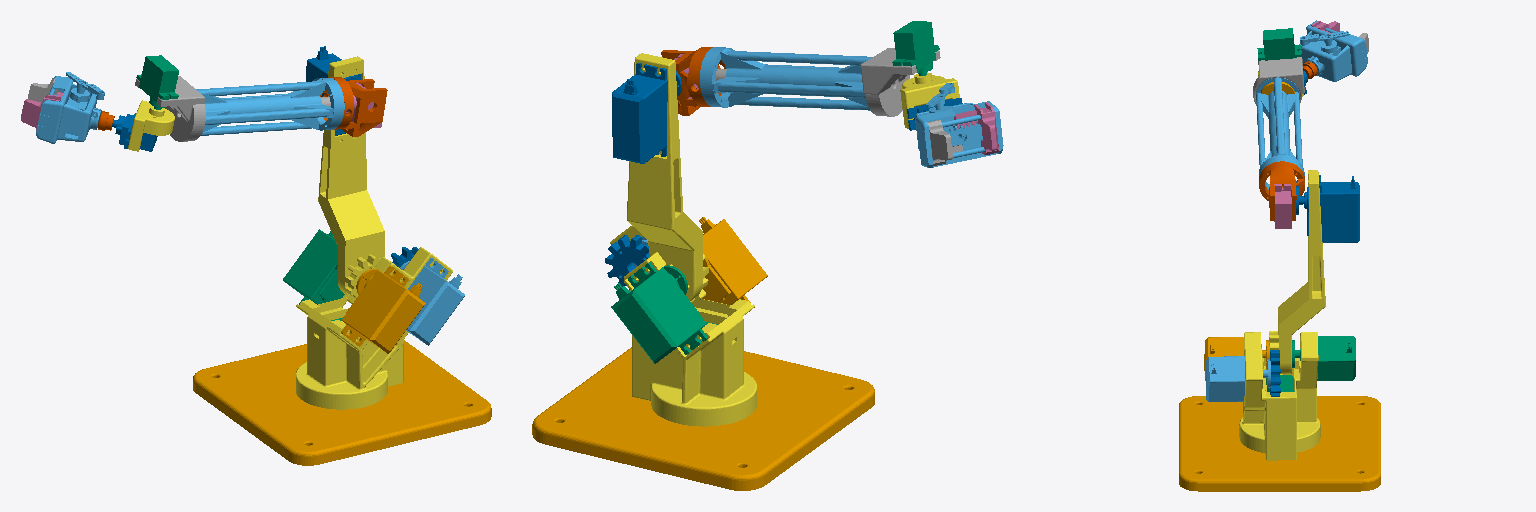
robot.urdf — Fenrir:
<?xml version="1.0" ?>
<robot name="Fenrir">

<material name="silver">
  <color rgba="0.700 0.700 0.700 1.000"/>
</material>

<material name="black">
  <color rgba="0.000 0.000 0.000 1.000"/>
</material>

<link name="base_link">
  <inertial>
    <origin xyz="1.8190649168632872e-07 1.8190679612567247e-07 0.0045562324440714536" rpy="0 0 0"/>
    <mass value="1.5757592042176625"/>
    <inertia ixx="0.0028840369465450914" iyy="0.0028840369383374012" izz="0.005745539384307364" ixy="9.260470810583044e-07" iyz="-1.4658118675883586e-09" ixz="-1.465811894234149e-09"/>
  </inertial>
  <visual>
    <origin xyz="0 0 0" rpy="0 0 0"/>
    <geometry>
      <mesh filename="meshes/base_link.stl" scale="0.001 0.001 0.001"/>
    </geometry>
    <material name="silver"/>
    <material/>
  </visual>
  <collision>
    <origin xyz="0 0 0" rpy="0 0 0"/>
    <geometry>
      <mesh filename="meshes/base_link.stl" scale="0.001 0.001 0.001"/>
    </geometry>
  </collision>
</link>

<link name="gripper_body1">
  <inertial>
    <origin xyz="-0.010645259405224872 0.009029599162296748 0.0024152740401068573" rpy="0 0 0"/>
    <mass value="0.1730775059148414"/>
    <inertia ixx="3.0952742939698366e-05" iyy="2.8184952640007352e-05" izz="3.798701059695188e-05" ixy="-5.722402575421889e-06" iyz="1.520879396750812e-07" ixz="8.540673073365729e-08"/>
  </inertial>
  <visual>
    <origin xyz="0.172117 -0.026452 -0.233218" rpy="0 0 0"/>
    <geometry>
      <mesh filename="meshes/gripper_body1.stl" scale="0.001 0.001 0.001"/>
    </geometry>
    <material name="silver"/>
    <material/>
  </visual>
  <collision>
    <origin xyz="0.172117 -0.026452 -0.233218" rpy="0 0 0"/>
    <geometry>
      <mesh filename="meshes/gripper_body1.stl" scale="0.001 0.001 0.001"/>
    </geometry>
  </collision>
</link>

<link name="base_servo1">
  <inertial>
    <origin xyz="0.0097678905552902 0.0002846156436969003 0.02703485977305558" rpy="0 0 0"/>
    <mass value="0.2658066538477731"/>
    <inertia ixx="4.5905044265848855e-05" iyy="7.512321155176858e-05" izz="4.722744669481479e-05" ixy="-8.523369753271079e-07" iyz="-6.383583737549818e-08" ixz="-2.1901944549831395e-06"/>
  </inertial>
  <visual>
    <origin xyz="-9e-06 -9e-06 -0.009" rpy="0 0 0"/>
    <geometry>
      <mesh filename="meshes/base_servo1.stl" scale="0.001 0.001 0.001"/>
    </geometry>
    <material name="black"/>
    <material/>
  </visual>
  <collision>
    <origin xyz="-9e-06 -9e-06 -0.009" rpy="0 0 0"/>
    <geometry>
      <mesh filename="meshes/base_servo1.stl" scale="0.001 0.001 0.001"/>
    </geometry>
  </collision>
</link>

<link name="joint_one_body1">
  <inertial>
    <origin xyz="-0.024112282115374504 -0.003944846866341298 0.016508707805715464" rpy="0 0 0"/>
    <mass value="0.4688746120587956"/>
    <inertia ixx="0.0004237074569255258" iyy="0.0005355095348674533" izz="0.0003496436022890586" ixy="2.942878437548079e-05" iyz="2.4060169979392124e-05" ixz="-0.00012660104149275528"/>
  </inertial>
  <visual>
    <origin xyz="-0.034144 -0.001004 -0.0276" rpy="0 0 0"/>
    <geometry>
      <mesh filename="meshes/joint_one_body1.stl" scale="0.001 0.001 0.001"/>
    </geometry>
    <material name="silver"/>
    <material/>
  </visual>
  <collision>
    <origin xyz="-0.034144 -0.001004 -0.0276" rpy="0 0 0"/>
    <geometry>
      <mesh filename="meshes/joint_one_body1.stl" scale="0.001 0.001 0.001"/>
    </geometry>
  </collision>
</link>

<link name="mg996r1">
  <inertial>
    <origin xyz="-0.2111493199609745 0.012567454176192209 0.15185235386394982" rpy="0 0 0"/>
    <mass value="0.26593150454126685"/>
    <inertia ixx="7.523268930311605e-05" iyy="4.7341036934871183e-05" izz="4.591481466780851e-05" ixy="8.444774472724263e-07" iyz="2.1278380190007523e-06" ixz="-4.84216701204538e-07"/>
  </inertial>
  <visual>
    <origin xyz="-0.22786 -0.026349 -0.049196" rpy="0 0 0"/>
    <geometry>
      <mesh filename="meshes/mg996r1.stl" scale="0.001 0.001 0.001"/>
    </geometry>
    <material name="black"/>
    <material/>
  </visual>
  <collision>
    <origin xyz="-0.22786 -0.026349 -0.049196" rpy="0 0 0"/>
    <geometry>
      <mesh filename="meshes/mg996r1.stl" scale="0.001 0.001 0.001"/>
    </geometry>
  </collision>
</link>

<link name="joint_three_coupler1">
  <inertial>
    <origin xyz="-0.010614246356101982 -0.009457828931357902 0.0005826002819208365" rpy="0 0 0"/>
    <mass value="0.06374463084478621"/>
    <inertia ixx="1.1713640618163986e-05" iyy="1.3886937257446413e-05" izz="1.1346327594984003e-05" ixy="1.8266003750137336e-07" iyz="-3.2774990548680035e-08" ixz="5.887013061454417e-07"/>
  </inertial>
  <visual>
    <origin xyz="-0.017639 -0.01189 -0.210807" rpy="0 0 0"/>
    <geometry>
      <mesh filename="meshes/joint_three_coupler1.stl" scale="0.001 0.001 0.001"/>
    </geometry>
    <material name="silver"/>
    <material/>
  </visual>
  <collision>
    <origin xyz="-0.017639 -0.01189 -0.210807" rpy="0 0 0"/>
    <geometry>
      <mesh filename="meshes/joint_three_coupler1.stl" scale="0.001 0.001 0.001"/>
    </geometry>
  </collision>
</link>

<link name="j3_servo1">
  <inertial>
    <origin xyz="0.003061638809864353 9.798100018048933e-05 -0.014154611962817365" rpy="0 0 0"/>
    <mass value="0.05589810594169982"/>
    <inertia ixx="3.4579518902173693e-06" iyy="5.541775338202028e-06" izz="3.4843675473639287e-06" ixy="-6.074741724346317e-08" iyz="1.0311702493726212e-08" ixz="3.1124349905760503e-07"/>
  </inertial>
  <visual>
    <origin xyz="-0.013774 -0.002073 -0.220185" rpy="0 0 0"/>
    <geometry>
      <mesh filename="meshes/j3_servo1.stl" scale="0.001 0.001 0.001"/>
    </geometry>
    <material name="black"/>
    <material/>
  </visual>
  <collision>
    <origin xyz="-0.013774 -0.002073 -0.220185" rpy="0 0 0"/>
    <geometry>
      <mesh filename="meshes/j3_servo1.stl" scale="0.001 0.001 0.001"/>
    </geometry>
  </collision>
</link>

<link name="joint_four_body1">
  <inertial>
    <origin xyz="-0.09352419136777934 -0.001158439148199707 0.021612970408451032" rpy="0 0 0"/>
    <mass value="0.1368251168908434"/>
    <inertia ixx="3.2646441726158146e-05" iyy="0.0002509492220017801" izz="0.00023559240316903566" ixy="-3.7287203473645475e-08" iyz="-1.3088239401923105e-06" ixz="6.189398076866543e-05"/>
  </inertial>
  <visual>
    <origin xyz="-0.000572 -0.001694 -0.213731" rpy="0 0 0"/>
    <geometry>
      <mesh filename="meshes/joint_four_body1.stl" scale="0.001 0.001 0.001"/>
    </geometry>
    <material name="silver"/>
    <material/>
  </visual>
  <collision>
    <origin xyz="-0.000572 -0.001694 -0.213731" rpy="0 0 0"/>
    <geometry>
      <mesh filename="meshes/joint_four_body1.stl" scale="0.001 0.001 0.001"/>
    </geometry>
  </collision>
</link>

<link name="joint_four_bearing1">
  <inertial>
    <origin xyz="0.003934463042572445 0.00011425317887628003 -0.0007111926335709451" rpy="0 0 0"/>
    <mass value="0.02841005068494341"/>
    <inertia ixx="2.7160016020009135e-06" iyy="1.530415771607268e-06" izz="1.5681730078755183e-06" ixy="3.4585257333985774e-08" iyz="-6.251171752211267e-09" ixz="-2.144729253423421e-07"/>
  </inertial>
  <visual>
    <origin xyz="0.120417 0.001832 -0.235599" rpy="0 0 0"/>
    <geometry>
      <mesh filename="meshes/joint_four_bearing1.stl" scale="0.001 0.001 0.001"/>
    </geometry>
    <material name="silver"/>
    <material/>
  </visual>
  <collision>
    <origin xyz="0.120417 0.001832 -0.235599" rpy="0 0 0"/>
    <geometry>
      <mesh filename="meshes/joint_four_bearing1.stl" scale="0.001 0.001 0.001"/>
    </geometry>
  </collision>
</link>

<link name="joint_three_body1">
  <inertial>
    <origin xyz="-0.05737050355308056 -0.012318507158123375 -0.00038901874202051934" rpy="0 0 0"/>
    <mass value="0.18727346151205548"/>
    <inertia ixx="3.6504454341300396e-05" iyy="0.0002750398653144897" izz="0.0002674432528822632" ixy="-6.958423750132665e-06" iyz="1.2577121274540057e-06" ixz="4.315114639589579e-05"/>
  </inertial>
  <visual>
    <origin xyz="0.006468 -0.012112 -0.225956" rpy="0 0 0"/>
    <geometry>
      <mesh filename="meshes/joint_three_body1.stl" scale="0.001 0.001 0.001"/>
    </geometry>
    <material name="silver"/>
    <material/>
  </visual>
  <collision>
    <origin xyz="0.006468 -0.012112 -0.225956" rpy="0 0 0"/>
    <geometry>
      <mesh filename="meshes/joint_three_body1.stl" scale="0.001 0.001 0.001"/>
    </geometry>
  </collision>
</link>

<link name="j4_servo1">
  <inertial>
    <origin xyz="0.00075522203071271 0.0128991137827376 0.006569643342771547" rpy="0 0 0"/>
    <mass value="0.05589810594169982"/>
    <inertia ixx="5.474011958723612e-06" iyy="3.637887736480591e-06" izz="3.3721950795510044e-06" ixy="1.4628608730554322e-08" iyz="-2.70888737279456e-07" ixz="-3.8271229013632155e-07"/>
  </inertial>
  <visual>
    <origin xyz="0.138488 0.013785 -0.256307" rpy="0 0 0"/>
    <geometry>
      <mesh filename="meshes/j4_servo1.stl" scale="0.001 0.001 0.001"/>
    </geometry>
    <material name="black"/>
    <material/>
  </visual>
  <collision>
    <origin xyz="0.138488 0.013785 -0.256307" rpy="0 0 0"/>
    <geometry>
      <mesh filename="meshes/j4_servo1.stl" scale="0.001 0.001 0.001"/>
    </geometry>
  </collision>
</link>

<link name="joint_five_body1">
  <inertial>
    <origin xyz="-0.0037990185356478468 0.00241574058774893 -0.009230996728596258" rpy="0 0 0"/>
    <mass value="0.056987335128196565"/>
    <inertia ixx="4.931682390759903e-06" iyy="4.603413424249421e-06" izz="6.991233656208559e-06" ixy="-7.708382314583344e-07" iyz="2.9126730827564026e-07" ixz="-1.1763057786227764e-07"/>
  </inertial>
  <visual>
    <origin xyz="0.140768 0.00419 -0.245444" rpy="0 0 0"/>
    <geometry>
      <mesh filename="meshes/joint_five_body1.stl" scale="0.001 0.001 0.001"/>
    </geometry>
    <material name="silver"/>
    <material/>
  </visual>
  <collision>
    <origin xyz="0.140768 0.00419 -0.245444" rpy="0 0 0"/>
    <geometry>
      <mesh filename="meshes/joint_five_body1.stl" scale="0.001 0.001 0.001"/>
    </geometry>
  </collision>
</link>

<link name="j5_servo1">
  <inertial>
    <origin xyz="-0.005936655700682053 -0.012397988556483218 6.045801700724218e-05" rpy="0 0 0"/>
    <mass value="0.055898105941701935"/>
    <inertia ixx="3.784171161547341e-06" iyy="3.2342555759097905e-06" izz="5.4656680363964535e-06" ixy="1.4795921569283745e-07" iyz="-2.1623132705267314e-07" ixz="3.3141902010215205e-07"/>
  </inertial>
  <visual>
    <origin xyz="0.145315 -0.015901 -0.227489" rpy="0 0 0"/>
    <geometry>
      <mesh filename="meshes/j5_servo1.stl" scale="0.001 0.001 0.001"/>
    </geometry>
    <material name="black"/>
    <material/>
  </visual>
  <collision>
    <origin xyz="0.145315 -0.015901 -0.227489" rpy="0 0 0"/>
    <geometry>
      <mesh filename="meshes/j5_servo1.stl" scale="0.001 0.001 0.001"/>
    </geometry>
  </collision>
</link>

<link name="gripper_coupler1">
  <inertial>
    <origin xyz="-0.003903644749747359 0.0031660160145538588 0.0009682080944643512" rpy="0 0 0"/>
    <mass value="0.006853643385999504"/>
    <inertia ixx="1.1992800902198026e-07" iyy="1.2082185299792068e-07" izz="1.2622133425404408e-07" ixy="2.2808233400468416e-09" iyz="-8.951735670542811e-10" ixz="1.378174092426035e-09"/>
  </inertial>
  <visual>
    <origin xyz="0.161593 -0.017916 -0.230608" rpy="0 0 0"/>
    <geometry>
      <mesh filename="meshes/gripper_coupler1.stl" scale="0.001 0.001 0.001"/>
    </geometry>
    <material name="silver"/>
    <material/>
  </visual>
  <collision>
    <origin xyz="0.161593 -0.017916 -0.230608" rpy="0 0 0"/>
    <geometry>
      <mesh filename="meshes/gripper_coupler1.stl" scale="0.001 0.001 0.001"/>
    </geometry>
  </collision>
</link>

<link name="fang11">
  <inertial>
    <origin xyz="0.000723473003286651 0.006393202922540527 -0.007059227188394107" rpy="0 0 0"/>
    <mass value="0.019744628552701378"/>
    <inertia ixx="1.148847167196064e-06" iyy="1.6039788132598057e-06" izz="1.196010205888943e-06" ixy="1.9416104713623045e-07" iyz="9.028850699943983e-08" ixz="-3.413832904604081e-07"/>
  </inertial>
  <visual>
    <origin xyz="0.205246 -0.028158 -0.248977" rpy="0 0 0"/>
    <geometry>
      <mesh filename="meshes/fang11.stl" scale="0.001 0.001 0.001"/>
    </geometry>
    <material name="silver"/>
    <material/>
  </visual>
  <collision>
    <origin xyz="0.205246 -0.028158 -0.248977" rpy="0 0 0"/>
    <geometry>
      <mesh filename="meshes/fang11.stl" scale="0.001 0.001 0.001"/>
    </geometry>
  </collision>
</link>

<link name="fang21">
  <inertial>
    <origin xyz="-0.0038940207160325924 -0.0037932319760914796 0.008005221194704287" rpy="0 0 0"/>
    <mass value="0.019455276565580083"/>
    <inertia ixx="1.5190423541314429e-06" iyy="1.351372224712771e-06" izz="9.485294918336979e-07" ixy="1.452621525215665e-07" iyz="-3.0758567005174453e-07" ixz="6.519037060615396e-08"/>
  </inertial>
  <visual>
    <origin xyz="0.183679 -0.060995 -0.228542" rpy="0 0 0"/>
    <geometry>
      <mesh filename="meshes/fang21.stl" scale="0.001 0.001 0.001"/>
    </geometry>
    <material name="silver"/>
    <material/>
  </visual>
  <collision>
    <origin xyz="0.183679 -0.060995 -0.228542" rpy="0 0 0"/>
    <geometry>
      <mesh filename="meshes/fang21.stl" scale="0.001 0.001 0.001"/>
    </geometry>
  </collision>
</link>

<link name="mg996r_11">
  <inertial>
    <origin xyz="0.029642373581230726 -0.058569059184726845 -0.05495664100057751" rpy="0 0 0"/>
    <mass value="0.26593150454126685"/>
    <inertia ixx="6.128530780501922e-05" iyy="4.7241029041984696e-05" izz="5.996220405877123e-05" ixy="-1.0743797661436728e-06" iyz="-1.9725491860608183e-06" ixz="-1.461321236769807e-05"/>
  </inertial>
  <visual>
    <origin xyz="0.019203 -0.023425 -0.132569" rpy="0 0 0"/>
    <geometry>
      <mesh filename="meshes/mg996r_11.stl" scale="0.001 0.001 0.001"/>
    </geometry>
    <material name="black"/>
    <material/>
  </visual>
  <collision>
    <origin xyz="0.019203 -0.023425 -0.132569" rpy="0 0 0"/>
    <geometry>
      <mesh filename="meshes/mg996r_11.stl" scale="0.001 0.001 0.001"/>
    </geometry>
  </collision>
</link>

<link name="mg996r_21">
  <inertial>
    <origin xyz="0.0904652863477785 -0.05590909948058845 -0.054956700252696555" rpy="0 0 0"/>
    <mass value="0.26593150454126685"/>
    <inertia ixx="6.12853078050331e-05" iyy="4.724102904198448e-05" izz="5.996220405876185e-05" ixy="-1.0743797661437134e-06" iyz="-1.972549186062011e-06" ixz="-1.4613212367698314e-05"/>
  </inertial>
  <visual>
    <origin xyz="0.049595 -0.021652 -0.131095" rpy="0 0 0"/>
    <geometry>
      <mesh filename="meshes/mg996r_21.stl" scale="0.001 0.001 0.001"/>
    </geometry>
    <material name="black"/>
    <material/>
  </visual>
  <collision>
    <origin xyz="0.049595 -0.021652 -0.131095" rpy="0 0 0"/>
    <geometry>
      <mesh filename="meshes/mg996r_21.stl" scale="0.001 0.001 0.001"/>
    </geometry>
  </collision>
</link>

<link name="mg996r_31">
  <inertial>
    <origin xyz="0.02468822172345905 0.06179971609799295 -0.0549566406079853" rpy="0 0 0"/>
    <mass value="0.26593150454126685"/>
    <inertia ixx="6.11127243227089e-05" iyy="4.7413611599208616e-05" izz="5.9962204983860336e-05" ixy="1.8836932472642768e-06" iyz="1.1180721292151832e-06" ixz="-1.4703293719753758e-05"/>
  </inertial>
  <visual>
    <origin xyz="0.016314 0.02609 -0.132569" rpy="0 0 0"/>
    <geometry>
      <mesh filename="meshes/mg996r_31.stl" scale="0.001 0.001 0.001"/>
    </geometry>
    <material name="black"/>
    <material/>
  </visual>
  <collision>
    <origin xyz="0.016314 0.02609 -0.132569" rpy="0 0 0"/>
    <geometry>
      <mesh filename="meshes/mg996r_31.stl" scale="0.001 0.001 0.001"/>
    </geometry>
  </collision>
</link>

<link name="joint_two_body1">
  <inertial>
    <origin xyz="-1.37156092808767e-05 0.02105536063473303 0.038678081720212296" rpy="0 0 0"/>
    <mass value="0.31207246809736"/>
    <inertia ixx="0.0004636578572301646" iyy="0.0004421904016233798" izz="6.48431717573588e-05" ixy="-6.527571845460402e-07" iyz="-0.00010533856194752862" ixz="-2.13933220368672e-06"/>
  </inertial>
  <visual>
    <origin xyz="-0.016401 0.007917 -0.084659" rpy="0 0 0"/>
    <geometry>
      <mesh filename="meshes/joint_two_body1.stl" scale="0.001 0.001 0.001"/>
    </geometry>
    <material name="silver"/>
    <material/>
  </visual>
  <collision>
    <origin xyz="-0.016401 0.007917 -0.084659" rpy="0 0 0"/>
    <geometry>
      <mesh filename="meshes/joint_two_body1.stl" scale="0.001 0.001 0.001"/>
    </geometry>
  </collision>
</link>

<link name="j1_gear1">
  <inertial>
    <origin xyz="-0.00010162621207169403 0.0034986054276516954 -3.2945308045539967e-07" rpy="0 0 0"/>
    <mass value="0.036323861946287964"/>
    <inertia ixx="2.5209611348384346e-06" iyy="4.739618017131797e-06" izz="2.519074583339119e-06" ixy="-6.472143771805877e-08" iyz="9.852009616104218e-17" ixz="3.379376856474381e-15"/>
  </inertial>
  <visual>
    <origin xyz="-0.046832 0.00703 -0.083185" rpy="0 0 0"/>
    <geometry>
      <mesh filename="meshes/j1_gear1.stl" scale="0.001 0.001 0.001"/>
    </geometry>
    <material name="silver"/>
    <material/>
  </visual>
  <collision>
    <origin xyz="-0.046832 0.00703 -0.083185" rpy="0 0 0"/>
    <geometry>
      <mesh filename="meshes/j1_gear1.stl" scale="0.001 0.001 0.001"/>
    </geometry>
  </collision>
</link>

<joint name="Rigid_1" type="fixed">
  <origin xyz="-0.010524 0.008536 0.00261" rpy="0 0 0"/>
  <parent link="gripper_coupler1"/>
  <child link="gripper_body1"/>
</joint>

<joint name="base_joint" type="revolute">
  <origin xyz="9e-06 9e-06 0.009" rpy="0 0 0"/>
  <parent link="base_link"/>
  <child link="base_servo1"/>
  <axis xyz="0.0 0.0 -1.0"/>
  <limit upper="0.0" lower="-3.141593" effort="100" velocity="100"/>
</joint>
<transmission name="base_joint_tran">
  <type>transmission_interface/SimpleTransmission</type>
  <joint name="base_joint">
    <hardwareInterface>PositionJointInterface</hardwareInterface>
  </joint>
  <actuator name="base_joint_actr">
    <hardwareInterface>PositionJointInterface</hardwareInterface>
    <mechanicalReduction>1</mechanicalReduction>
  </actuator>
</transmission>

<joint name="Rigid_3" type="fixed">
  <origin xyz="0.034135 0.000995 0.0186" rpy="0 0 0"/>
  <parent link="base_servo1"/>
  <child link="joint_one_body1"/>
</joint>

<joint name="Rigid_9" type="fixed">
  <origin xyz="0.211459 0.034266 -0.035463" rpy="0 0 0"/>
  <parent link="joint_two_body1"/>
  <child link="mg996r1"/>
</joint>

<joint name="j2" type="revolute">
  <origin xyz="-0.210221 -0.014459 0.161611" rpy="0 0 0"/>
  <parent link="mg996r1"/>
  <child link="joint_three_coupler1"/>
  <axis xyz="0.029134 -0.999576 -0.0"/>
  <limit upper="1.570796" lower="-1.570796" effort="100" velocity="100"/>
</joint>
<transmission name="j2_tran">
  <type>transmission_interface/SimpleTransmission</type>
  <joint name="j2">
    <hardwareInterface>PositionJointInterface</hardwareInterface>
  </joint>
  <actuator name="j2_actr">
    <hardwareInterface>PositionJointInterface</hardwareInterface>
    <mechanicalReduction>1</mechanicalReduction>
  </actuator>
</transmission>

<joint name="Rigid_11" type="fixed">
  <origin xyz="-0.003865 -0.009817 0.009378" rpy="0 0 0"/>
  <parent link="joint_three_coupler1"/>
  <child link="j3_servo1"/>
</joint>

<joint name="j3" type="revolute">
  <origin xyz="-0.013202 -0.000379 -0.006454" rpy="0 0 0"/>
  <parent link="j3_servo1"/>
  <child link="joint_four_body1"/>
  <axis xyz="-0.98365 -0.02867 0.177792"/>
  <limit upper="1.570796" lower="-1.570796" effort="100" velocity="100"/>
</joint>
<transmission name="j3_tran">
  <type>transmission_interface/SimpleTransmission</type>
  <joint name="j3">
    <hardwareInterface>PositionJointInterface</hardwareInterface>
  </joint>
  <actuator name="j3_actr">
    <hardwareInterface>PositionJointInterface</hardwareInterface>
    <mechanicalReduction>1</mechanicalReduction>
  </actuator>
</transmission>

<joint name="Rigid_13" type="fixed">
  <origin xyz="-0.120989 -0.003526 0.021868" rpy="0 0 0"/>
  <parent link="joint_four_body1"/>
  <child link="joint_four_bearing1"/>
</joint>

<joint name="Rigid_14" type="fixed">
  <origin xyz="-0.024107 0.000222 0.015149" rpy="0 0 0"/>
  <parent link="joint_three_coupler1"/>
  <child link="joint_three_body1"/>
</joint>

<joint name="Rigid_15" type="fixed">
  <origin xyz="-0.13906 -0.015479 0.042576" rpy="0 0 0"/>
  <parent link="joint_four_body1"/>
  <child link="j4_servo1"/>
</joint>

<joint name="j4" type="revolute">
  <origin xyz="-0.00228 0.009595 -0.010863" rpy="0 0 0"/>
  <parent link="j4_servo1"/>
  <child link="joint_five_body1"/>
  <axis xyz="-0.179531 0.078481 -0.980617"/>
  <limit upper="0.785398" lower="-2.356194" effort="100" velocity="100"/>
</joint>
<transmission name="j4_tran">
  <type>transmission_interface/SimpleTransmission</type>
  <joint name="j4">
    <hardwareInterface>PositionJointInterface</hardwareInterface>
  </joint>
  <actuator name="j4_actr">
    <hardwareInterface>PositionJointInterface</hardwareInterface>
    <mechanicalReduction>1</mechanicalReduction>
  </actuator>
</transmission>

<joint name="Rigid_17" type="fixed">
  <origin xyz="-0.004547 0.020091 -0.017955" rpy="0 0 0"/>
  <parent link="joint_five_body1"/>
  <child link="j5_servo1"/>
</joint>

<joint name="j5" type="revolute">
  <origin xyz="-0.016278 0.002015 0.003119" rpy="0 0 0"/>
  <parent link="j5_servo1"/>
  <child link="gripper_coupler1"/>
  <axis xyz="0.762623 -0.618577 -0.189126"/>
  <limit upper="1.570796" lower="-1.570796" effort="100" velocity="100"/>
</joint>
<transmission name="j5_tran">
  <type>transmission_interface/SimpleTransmission</type>
  <joint name="j5">
    <hardwareInterface>PositionJointInterface</hardwareInterface>
  </joint>
  <actuator name="j5_actr">
    <hardwareInterface>PositionJointInterface</hardwareInterface>
    <mechanicalReduction>1</mechanicalReduction>
  </actuator>
</transmission>

<joint name="Rigid_19" type="fixed">
  <origin xyz="-0.033129 0.001706 0.015759" rpy="0 0 0"/>
  <parent link="gripper_body1"/>
  <child link="fang11"/>
</joint>

<joint name="Rigid_20" type="fixed">
  <origin xyz="-0.011562 0.034543 -0.004676" rpy="0 0 0"/>
  <parent link="gripper_body1"/>
  <child link="fang21"/>
</joint>

<joint name="Rigid_23" type="fixed">
  <origin xyz="-0.053347 0.022421 0.104969" rpy="0 0 0"/>
  <parent link="joint_one_body1"/>
  <child link="mg996r_11"/>
</joint>

<joint name="Rigid_24" type="fixed">
  <origin xyz="-0.083739 0.020648 0.103495" rpy="0 0 0"/>
  <parent link="joint_one_body1"/>
  <child link="mg996r_21"/>
</joint>

<joint name="Rigid_25" type="fixed">
  <origin xyz="-0.050458 -0.027094 0.104969" rpy="0 0 0"/>
  <parent link="joint_one_body1"/>
  <child link="mg996r_31"/>
</joint>

<joint name="j1" type="revolute">
  <origin xyz="0.035604 -0.031342 -0.04791" rpy="0 0 0"/>
  <parent link="mg996r_11"/>
  <child link="joint_two_body1"/>
  <axis xyz="-0.029134 0.999576 0.0"/>
  <limit upper="1.570796" lower="-1.570796" effort="100" velocity="100"/>
</joint>
<transmission name="j1_tran">
  <type>transmission_interface/SimpleTransmission</type>
  <joint name="j1">
    <hardwareInterface>PositionJointInterface</hardwareInterface>
  </joint>
  <actuator name="j1_actr">
    <hardwareInterface>PositionJointInterface</hardwareInterface>
    <mechanicalReduction>1</mechanicalReduction>
  </actuator>
</transmission>

<joint name="j1_useless" type="continuous">
  <origin xyz="0.096427 -0.028682 -0.04791" rpy="0 0 0"/>
  <parent link="mg996r_21"/>
  <child link="j1_gear1"/>
  <axis xyz="-0.029134 0.999576 -0.0"/>
</joint>
<transmission name="j1_useless_tran">
  <type>transmission_interface/SimpleTransmission</type>
  <joint name="j1_useless">
    <hardwareInterface>PositionJointInterface</hardwareInterface>
  </joint>
  <actuator name="j1_useless_actr">
    <hardwareInterface>PositionJointInterface</hardwareInterface>
    <mechanicalReduction>1</mechanicalReduction>
  </actuator>
</transmission>

</robot>

--- Render facts (derived) ---
3 views of the same robot in one strip: view 1: azimuth 30°, elevation 25°; view 2: azimuth 150°, elevation 25°; view 3: azimuth 270°, elevation 25° (orthographic).
Model Fenrir with 21 links and 20 joints (6 revolute, 1 continuous, 13 fixed), rooted at base_link, posed every joint at zero.
Visible links, largest first — view 1: base_link, joint_one_body1, joint_two_body1, joint_three_body1, mg996r_11, gripper_body1, mg996r_31, mg996r_21, joint_three_coupler1, joint_four_body1, j4_servo1, joint_five_body1 (+3 smaller); view 2: base_link, joint_one_body1, joint_three_body1, joint_two_body1, mg996r_31, mg996r1, mg996r_11, gripper_body1, joint_four_body1, j4_servo1, joint_three_coupler1, joint_five_body1 (+3 smaller); view 3: base_link, joint_one_body1, joint_two_body1, joint_three_body1, gripper_body1, mg996r1, mg996r_21, mg996r_31, joint_three_coupler1, joint_four_body1, j4_servo1, mg996r_11 (+1 smaller).
Boxes of the visible links, left/top/right/bottom form: base_link: left=193, top=340, right=491, bottom=465; joint_one_body1: left=296, top=247, right=452, bottom=409; joint_two_body1: left=318, top=56, right=384, bottom=303; joint_three_body1: left=196, top=78, right=344, bottom=135; mg996r_11: left=341, top=265, right=425, bottom=353; gripper_body1: left=36, top=72, right=104, bottom=143; mg996r_31: left=283, top=229, right=344, bottom=304; mg996r_21: left=400, top=258, right=464, bottom=345; joint_three_coupler1: left=320, top=77, right=387, bottom=136; joint_four_body1: left=135, top=76, right=330, bottom=141; j4_servo1: left=136, top=55, right=178, bottom=109; joint_five_body1: left=128, top=100, right=174, bottom=151; base_link: left=532, top=347, right=874, bottom=490; joint_one_body1: left=610, top=226, right=756, bottom=426; joint_three_body1: left=700, top=47, right=871, bottom=110; joint_two_body1: left=627, top=53, right=708, bottom=302; mg996r_31: left=611, top=262, right=707, bottom=363; mg996r1: left=612, top=63, right=681, bottom=163; mg996r_11: left=699, top=217, right=767, bottom=304; gripper_body1: left=915, top=83, right=1003, bottom=167; joint_four_body1: left=716, top=48, right=940, bottom=116; j4_servo1: left=892, top=21, right=939, bottom=75; joint_three_coupler1: left=661, top=47, right=725, bottom=115; joint_five_body1: left=900, top=72, right=959, bottom=128; base_link: left=1179, top=396, right=1380, bottom=491; joint_one_body1: left=1239, top=332, right=1320, bottom=460; joint_two_body1: left=1269, top=170, right=1325, bottom=373; joint_three_body1: left=1256, top=77, right=1304, bottom=189; gripper_body1: left=1299, top=20, right=1367, bottom=81; mg996r1: left=1296, top=175, right=1359, bottom=242; mg996r_21: left=1205, top=356, right=1270, bottom=401; mg996r_31: left=1292, top=336, right=1355, bottom=380; joint_three_coupler1: left=1259, top=161, right=1304, bottom=220; joint_four_body1: left=1253, top=57, right=1304, bottom=111; j4_servo1: left=1257, top=28, right=1301, bottom=60; mg996r_11: left=1204, top=337, right=1269, bottom=376.
Size in the robot's own frame: 0.2914 by 0.15 by 0.2772 metres.
Meshes: 21 distinct files referenced, 21 mesh visuals loaded (21 binary STL).
